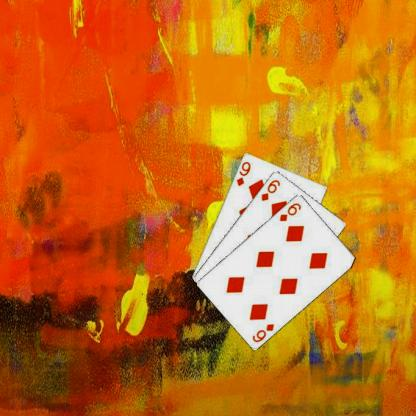6D: (277, 200, 302, 223), (259, 177, 281, 202), (250, 321, 275, 343)
9D: (234, 159, 252, 187)
